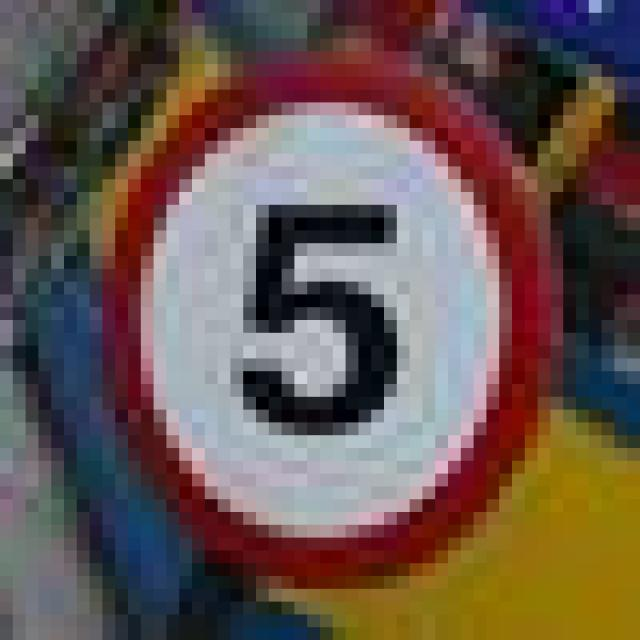speed_limit_20: (77, 38, 550, 589)
